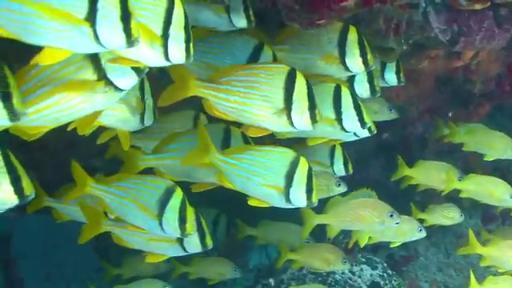Fish: (9, 53, 146, 139), (158, 64, 319, 136), (182, 124, 317, 207), (63, 161, 196, 237), (0, 0, 148, 64), (78, 203, 212, 262), (68, 77, 156, 150), (109, 128, 216, 183), (272, 22, 374, 79), (275, 84, 375, 142), (111, 0, 193, 67), (185, 28, 276, 79), (301, 198, 400, 239), (131, 110, 208, 152), (27, 182, 104, 223), (436, 123, 511, 160), (392, 156, 463, 191), (348, 216, 426, 247), (0, 148, 35, 213), (274, 123, 376, 145), (306, 69, 380, 99), (457, 230, 511, 271), (184, 0, 255, 31), (276, 244, 350, 271), (292, 143, 352, 176), (452, 174, 511, 206), (172, 257, 241, 284), (237, 220, 303, 248), (101, 253, 171, 279), (0, 63, 25, 127), (196, 208, 236, 247), (324, 188, 378, 211), (412, 204, 464, 226), (346, 69, 381, 99), (313, 171, 347, 199), (360, 97, 399, 121), (377, 60, 405, 87), (469, 270, 511, 287), (114, 279, 171, 287), (480, 226, 511, 240), (289, 284, 327, 287)
